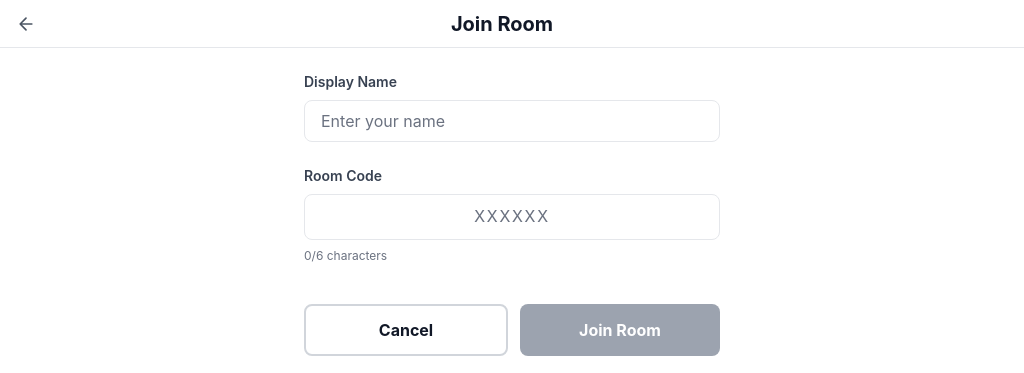
Scenario: JoinRoomForm › room code validation › requires room code to be exactly 6 characters
Type "Player" into the field labelled "Display Name".
click(512, 121); type("Player")  # box [304,100,720,142]
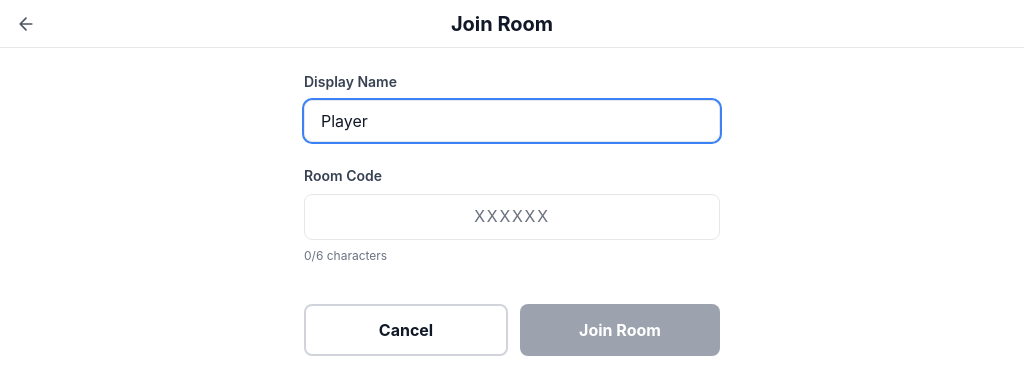
// Too short - should be disabled
Type "ABC12" into the field labelled "Room Code".
click(512, 217); type("ABC12")  # box [304,194,720,240]
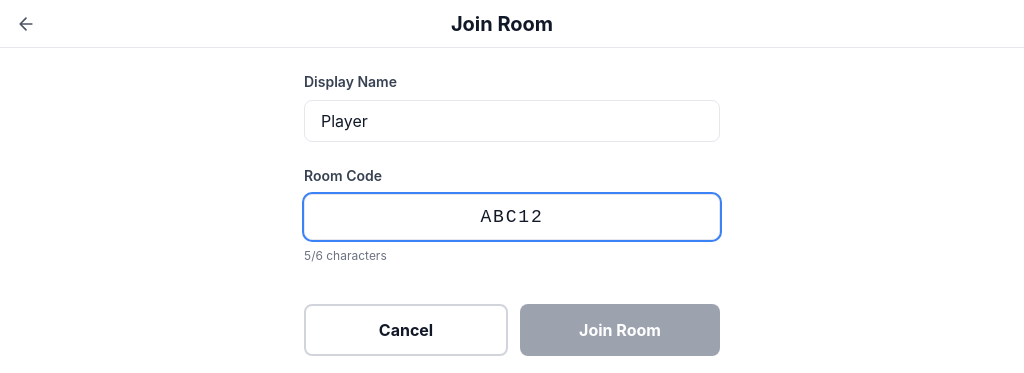
Check: the button "Join Room" is disabled, box [520,304,720,356]
// Exactly 6 - should be enabled
Type "3" into the field labelled "Room Code".
click(512, 217); type("3")  # box [304,194,720,240]
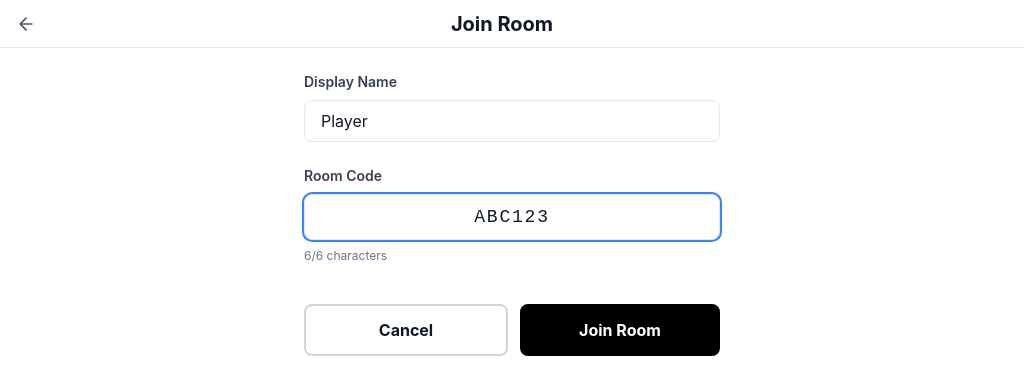
Check: the button "Join Room" is enabled, box [520,304,720,356]
